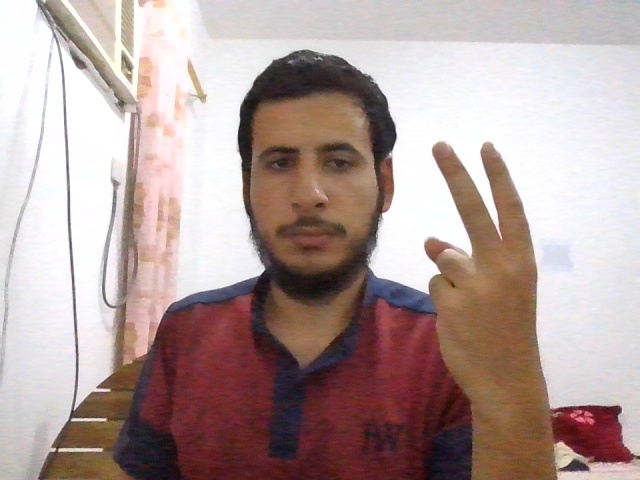Two: (424, 141, 545, 387)
